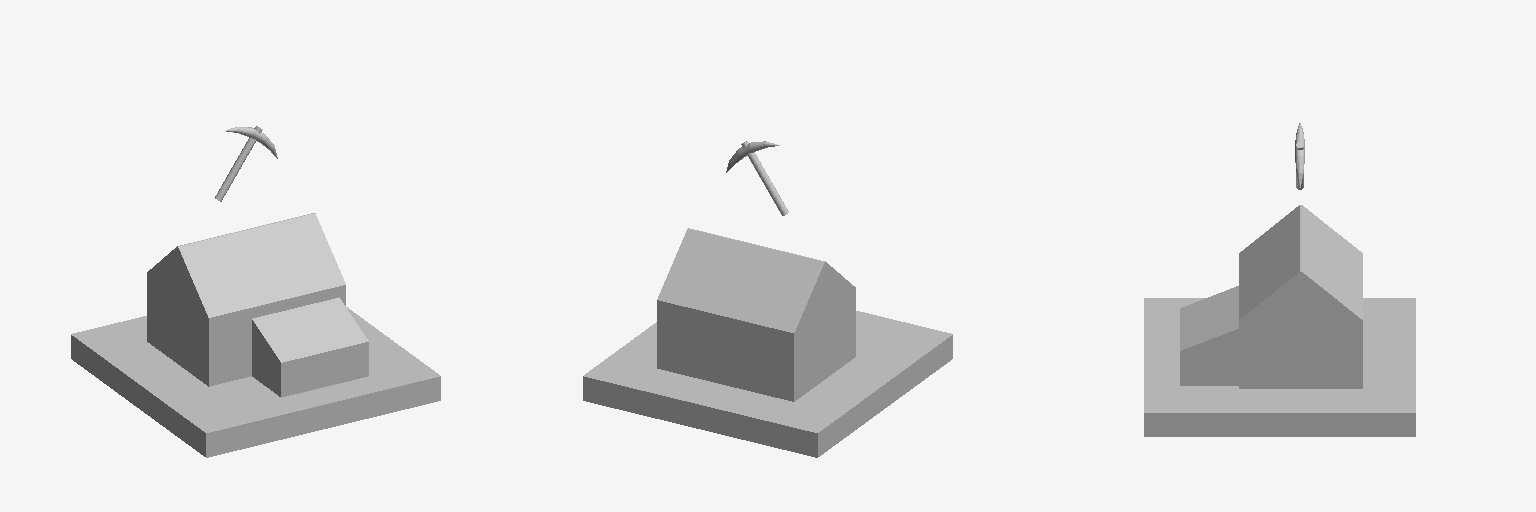
File: BasicFactory.obj
3 renders of one model, left to right at view 1: azimuth 30°, elevation 25°; view 2: azimuth 150°, elevation 25°; view 3: azimuth 270°, elevation 25°, orthographic.
Parts seen in each view (by area): view 1: Box001, Tilebase100, Cylinder001; view 2: Box001, Tilebase100, Cylinder001; view 3: Box001, Tilebase100.
Boxes of the visible parts, box(x1,y1,x2,y2) form: Box001: box(147, 213, 368, 397); Tilebase100: box(71, 307, 440, 457); Cylinder001: box(215, 126, 262, 201); Box001: box(657, 228, 855, 401); Tilebase100: box(583, 311, 952, 457); Cylinder001: box(741, 141, 788, 215); Box001: box(1180, 205, 1362, 388); Tilebase100: box(1144, 298, 1415, 436).
Size of the model in its own units: 10 by 10.06 by 10.